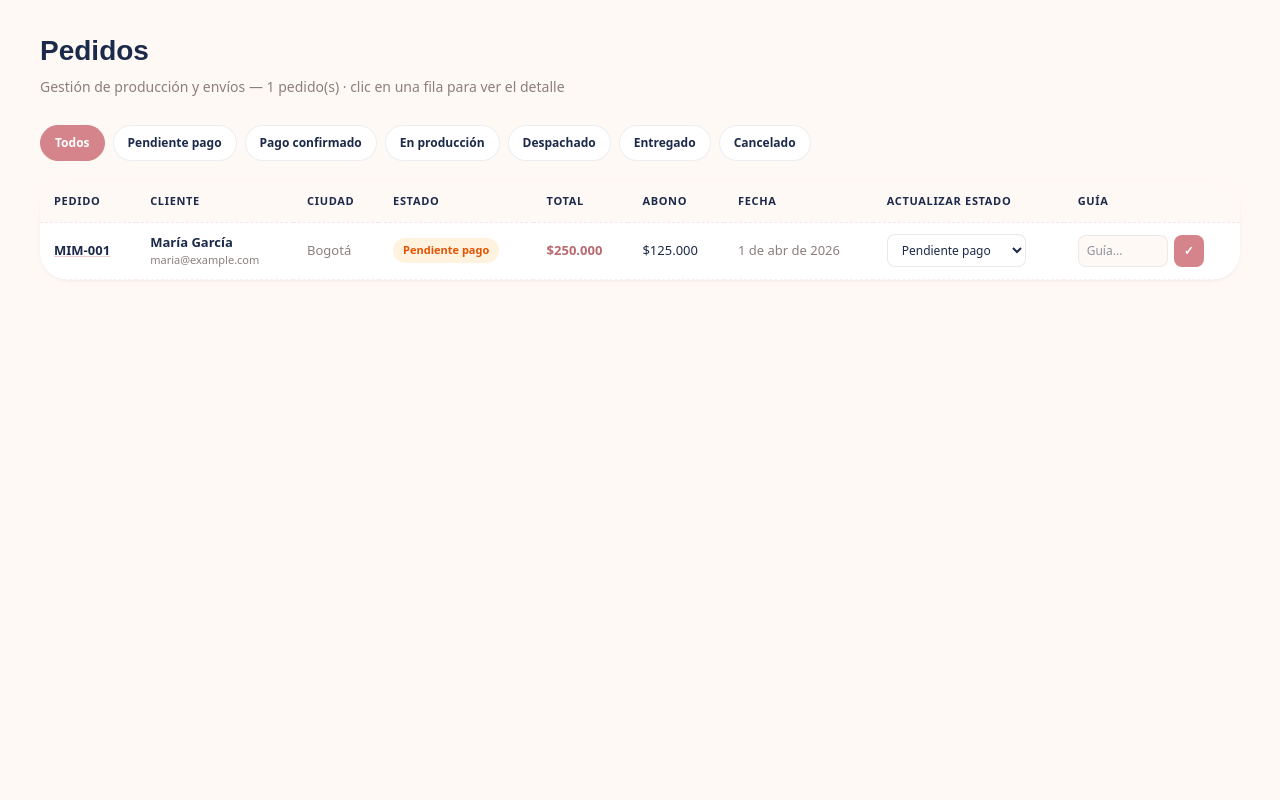
Test: PedidosAdminPage › shows an error in the detail modal when getOrderDetail rejects
This screenshot has width=1280, height=800.
Click the row with test id "order-row-MIM-001".
click(640, 250)  # box x1=40 y1=222 x2=1240 y2=279
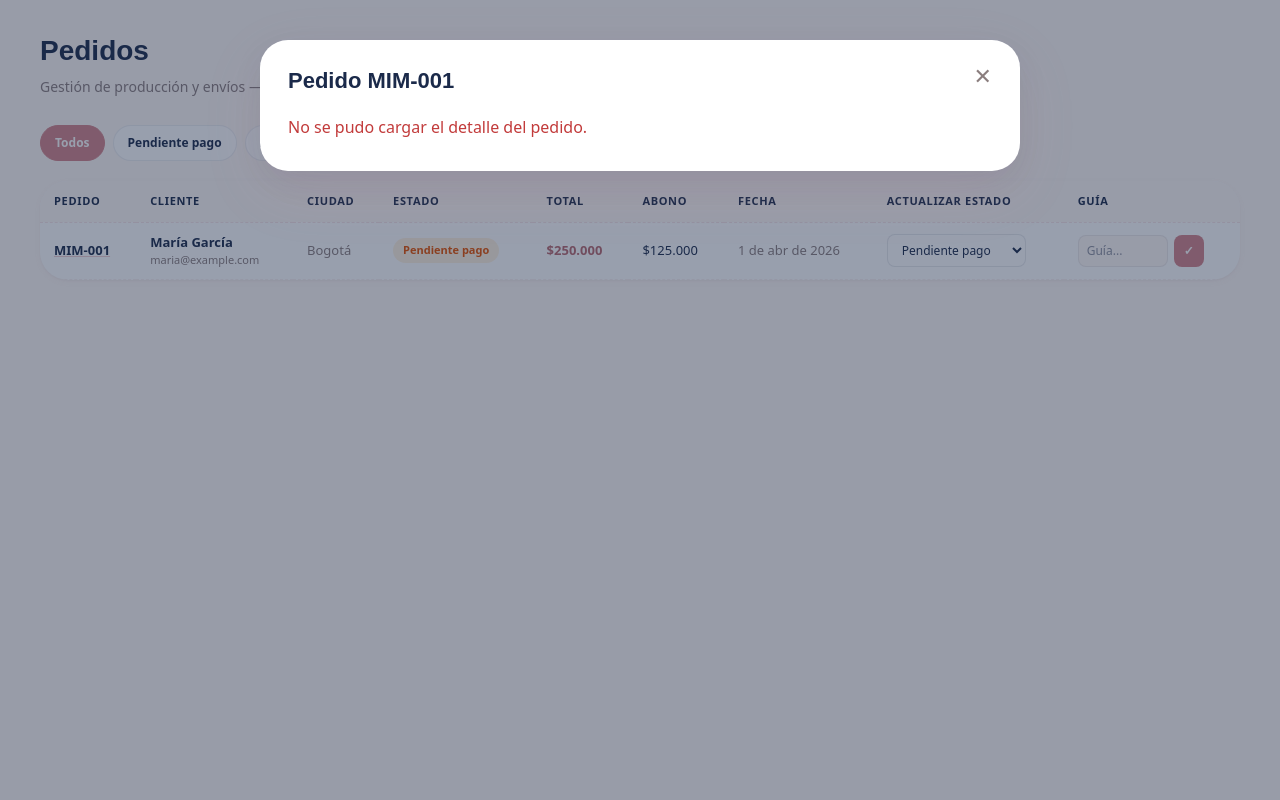
Now the text "No se pudo cargar el detalle del pedido." is shown, box x1=288 y1=116 x2=587 y2=138
